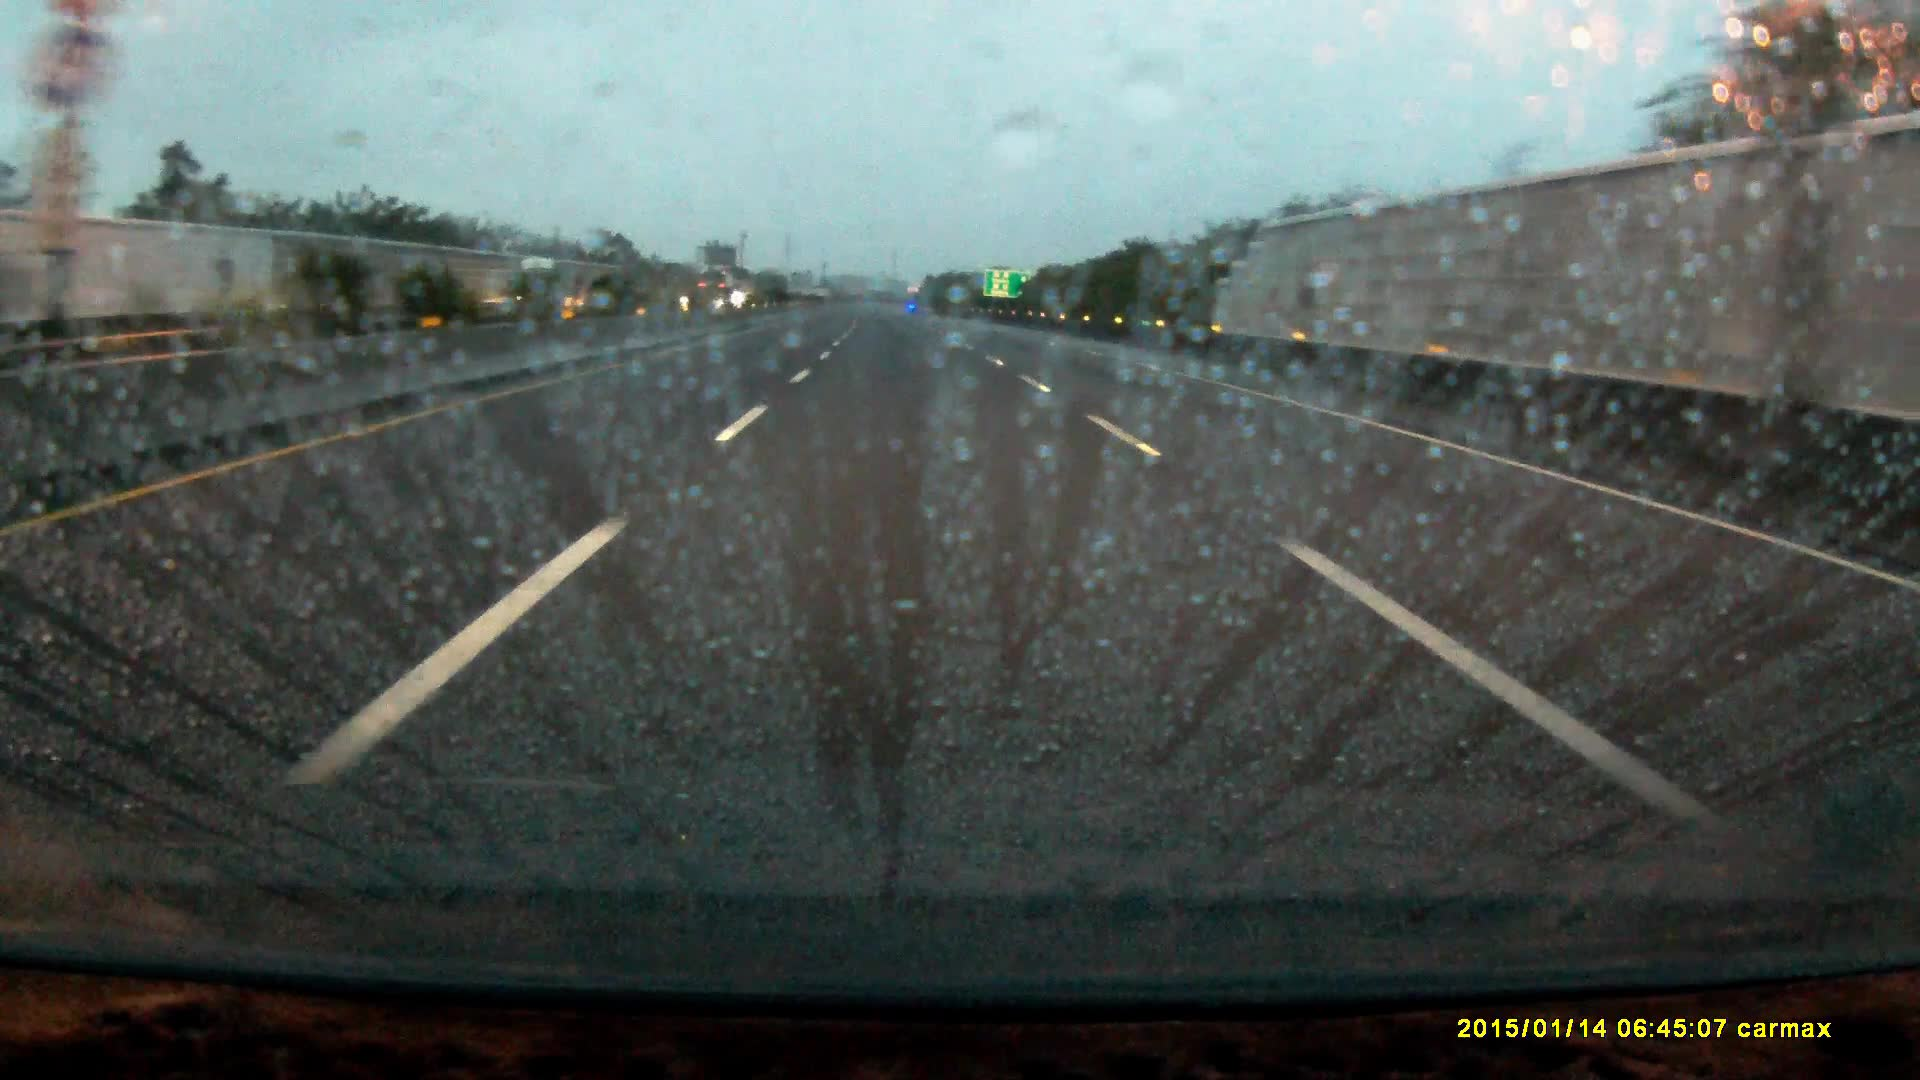vehicle: (516, 256, 592, 313), (698, 276, 737, 310)
